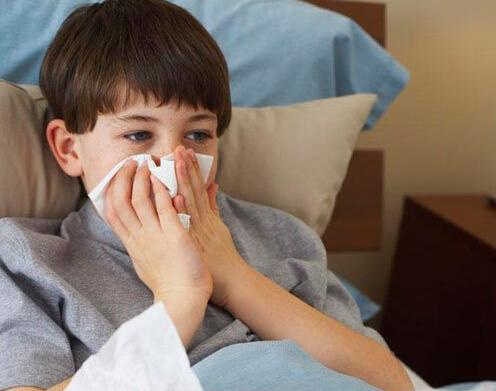face: (82, 78, 221, 219)
